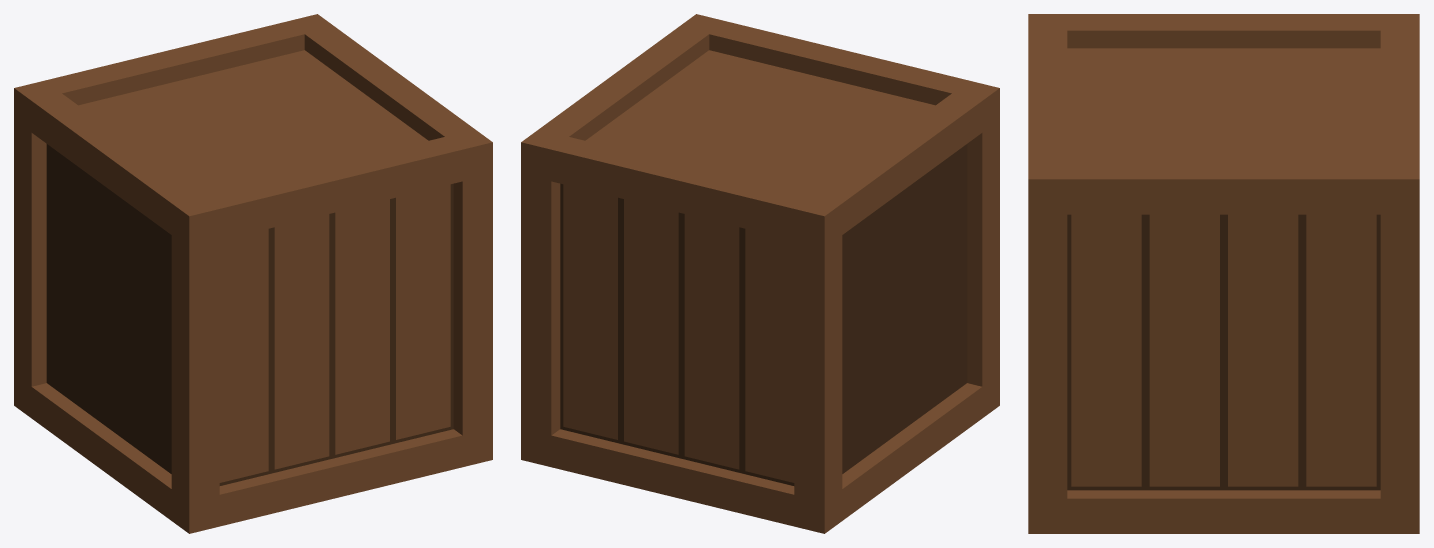
The model's file is Crate_2804.fbx.
3 renders of one model, left to right at view 1: azimuth 30°, elevation 25°; view 2: azimuth 150°, elevation 25°; view 3: azimuth 270°, elevation 25°, orthographic. The views are drawn at different scales.
Parts seen in each view (by area): view 1: Crate; view 2: Crate; view 3: Crate.
Boxes of the visible parts, x1,y1,x2,y2 form: Crate: (14,14,492,533); Crate: (521,14,999,533); Crate: (1028,14,1419,533).
Size of the model in its own units: 200 by 200 by 200.
